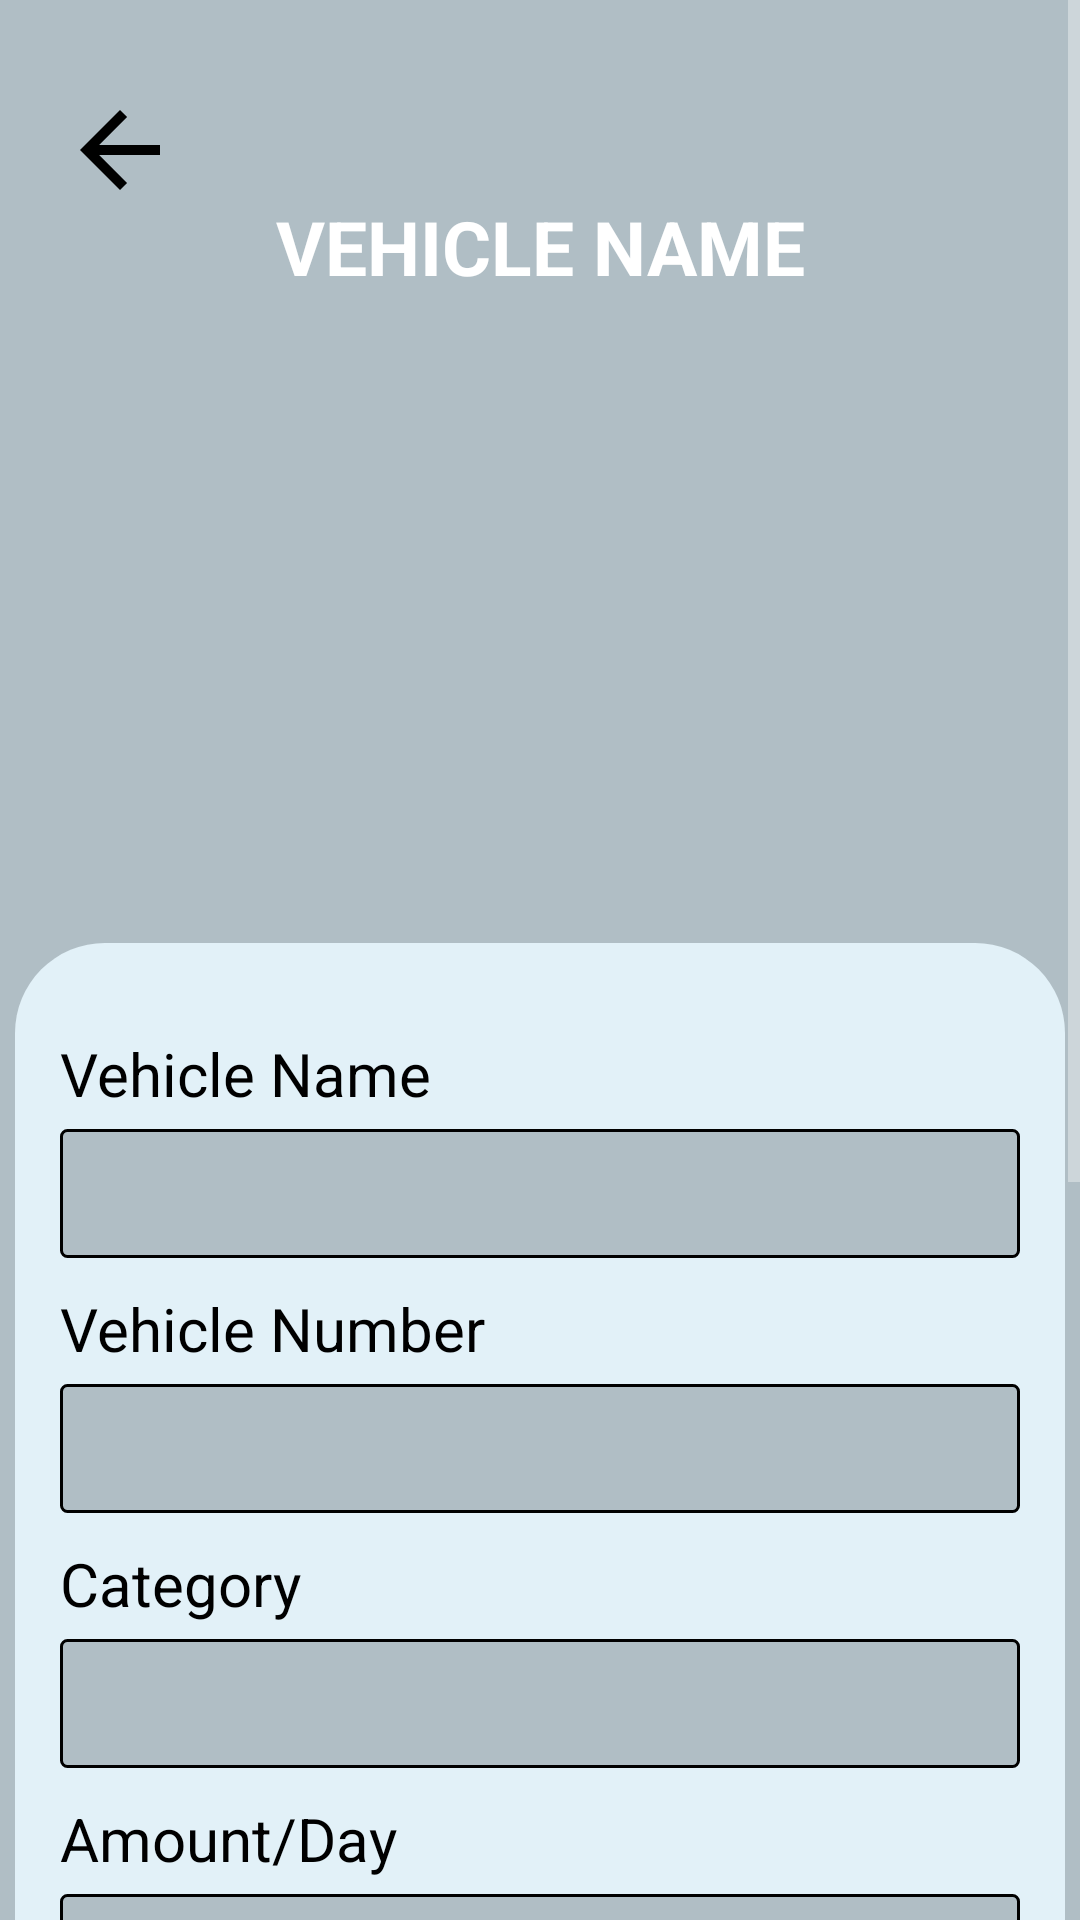

Named icons in this screenshot (1080*1920) and their centers, (x=x, y=y):
back: (x=120, y=150)
